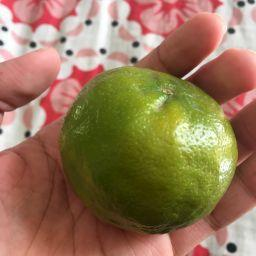Unripe: (61, 65, 237, 231)
